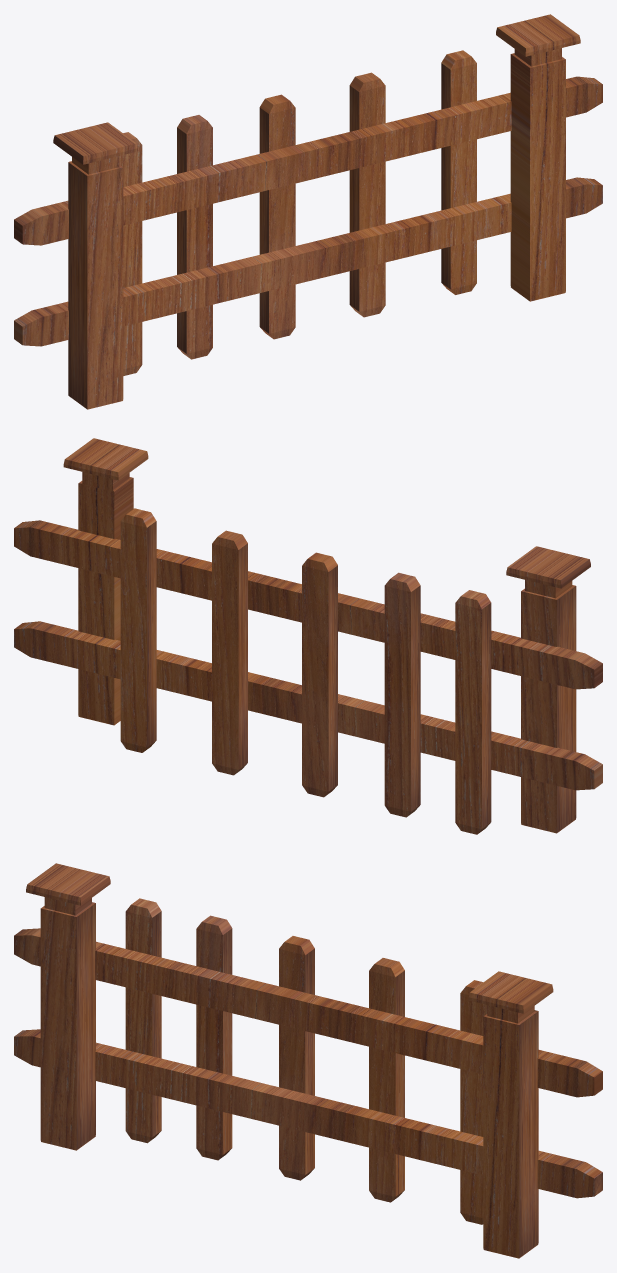
Rendered from Cercaa.fbx.
The picture shows the model from 3 angles, top to bottom: view 1: azimuth 30°, elevation 25°; view 2: azimuth 150°, elevation 25°; view 3: azimuth 330°, elevation 25°; orthographic projection.
Parts seen in each view (by area): view 1: Cube; view 2: Cube; view 3: Cube.
Part boxes in pixels (bbox=[...]): Cube: bbox=[14, 14, 602, 409]; Cube: bbox=[14, 438, 602, 834]; Cube: bbox=[14, 863, 602, 1258].
Size of the model in its own units: 1276 by 551 by 163.
